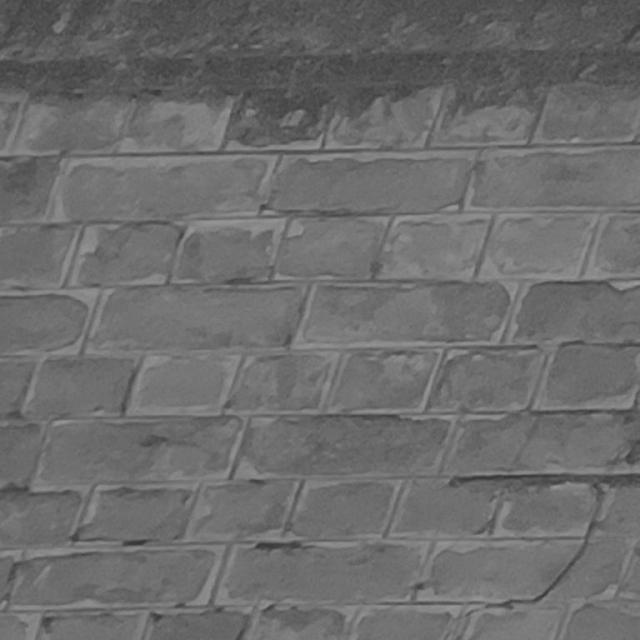crack: (447, 471, 639, 640)
